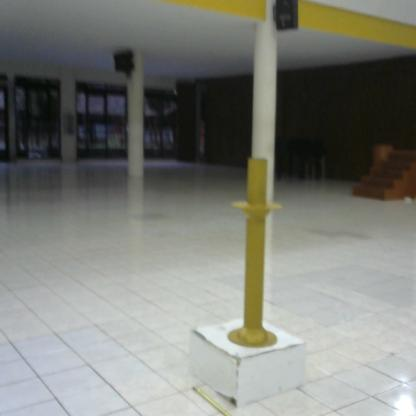pole: (224, 156, 292, 354)
